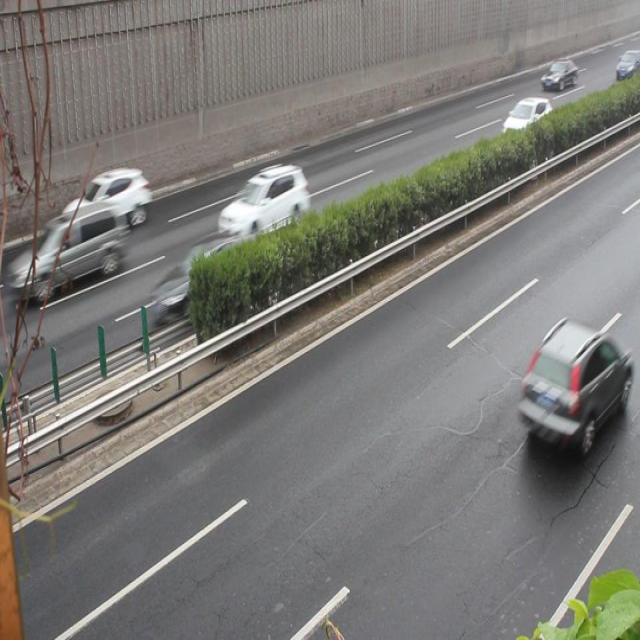car: (517, 318, 626, 454), (152, 231, 257, 326), (219, 162, 309, 244), (60, 168, 149, 236), (495, 97, 554, 157), (539, 58, 576, 94)
truck: (26, 203, 124, 301)
